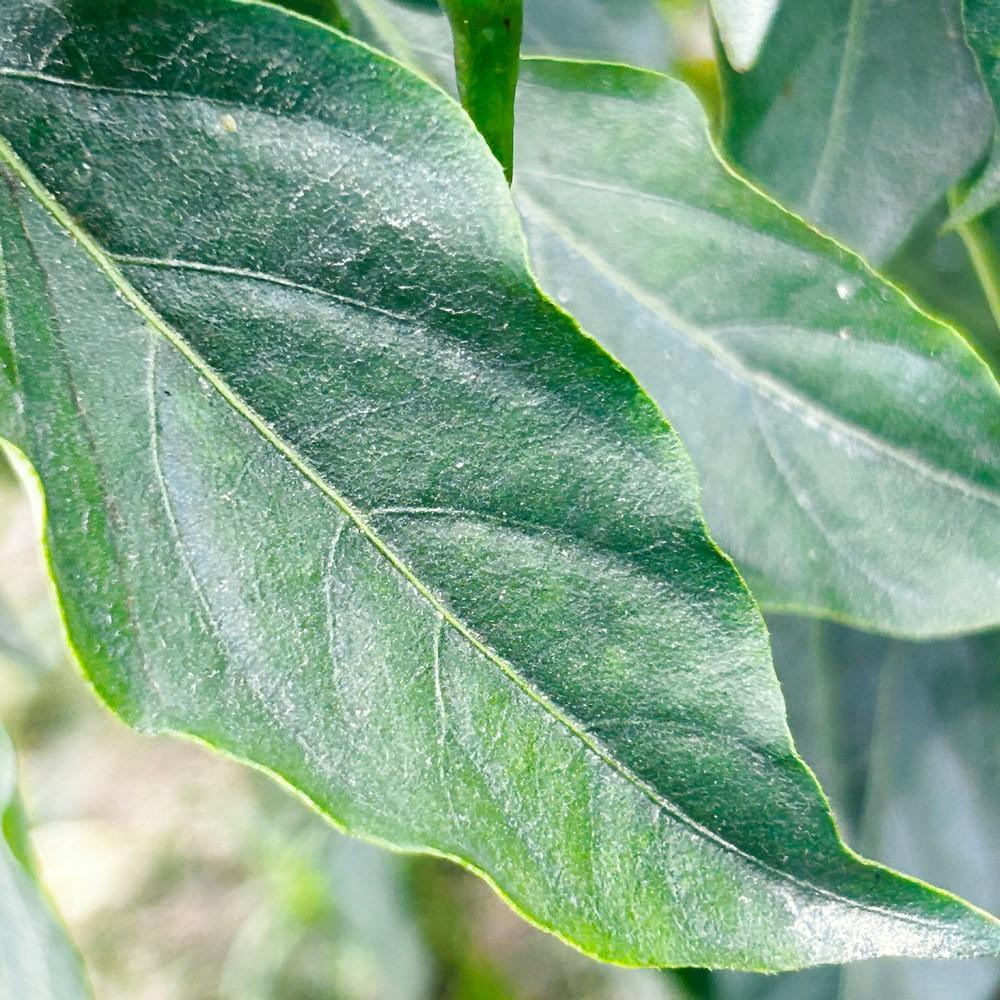Daun Cabai Sehat: (0, 0, 1000, 976)
